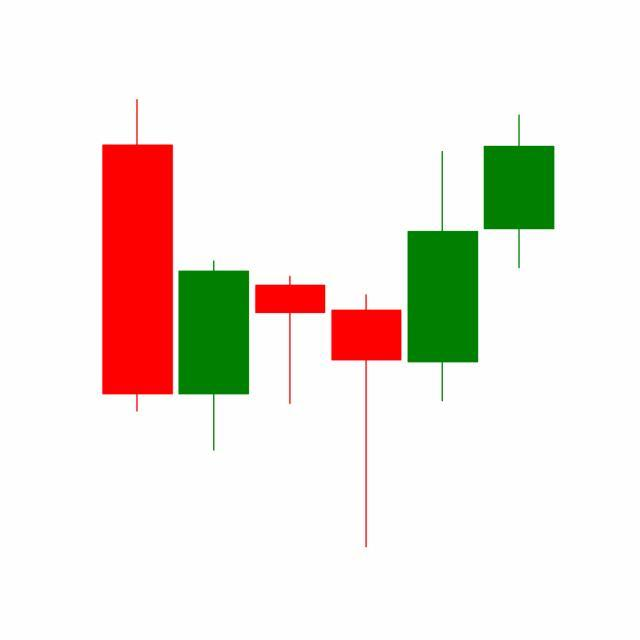Three Outside Up-Down: (326, 110, 555, 548)
